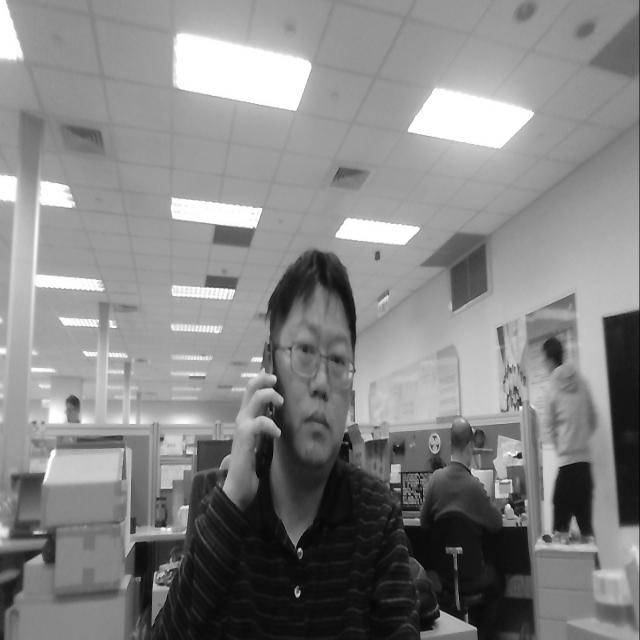phone: (236, 317, 298, 487)
